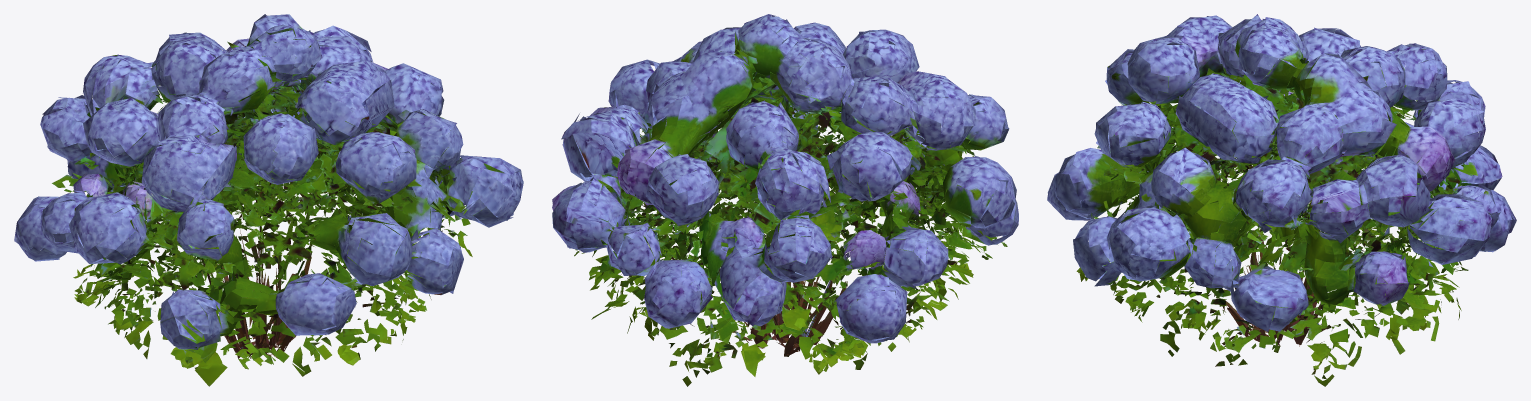
The model's file is veg_shrub_hydrangea_01.glb.
3 renders of one model, left to right at view 1: azimuth 30°, elevation 25°; view 2: azimuth 150°, elevation 25°; view 3: azimuth 270°, elevation 25°, orthographic.
Visible parts, largest first — view 1: veg_shrub_hydrangea_01; view 2: veg_shrub_hydrangea_01; view 3: veg_shrub_hydrangea_01.
Boxes of the visible parts, box(x1,y1,x2,y2) form: veg_shrub_hydrangea_01: box(14, 14, 523, 386); veg_shrub_hydrangea_01: box(552, 14, 1018, 386); veg_shrub_hydrangea_01: box(1047, 14, 1516, 386).
Size of the model in its own units: 1.38 by 1.05 by 1.4.
1 material, 1 textured.
